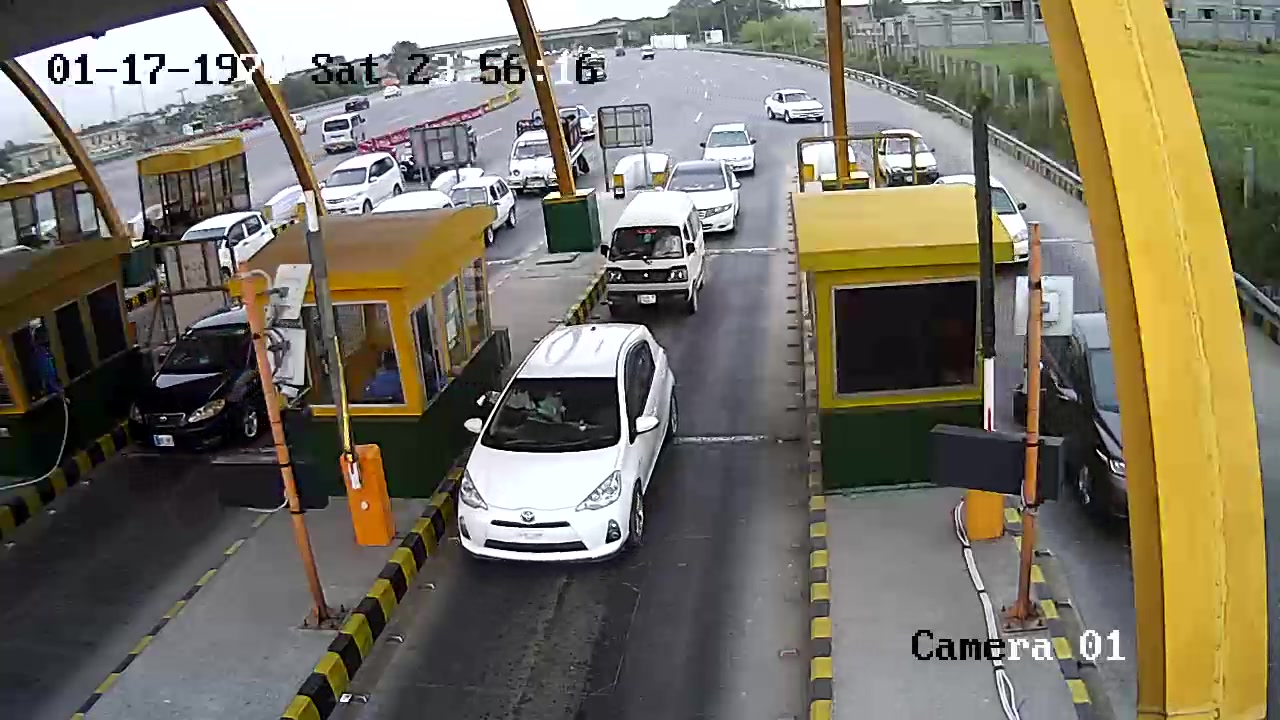F1: (448, 326, 683, 585)
